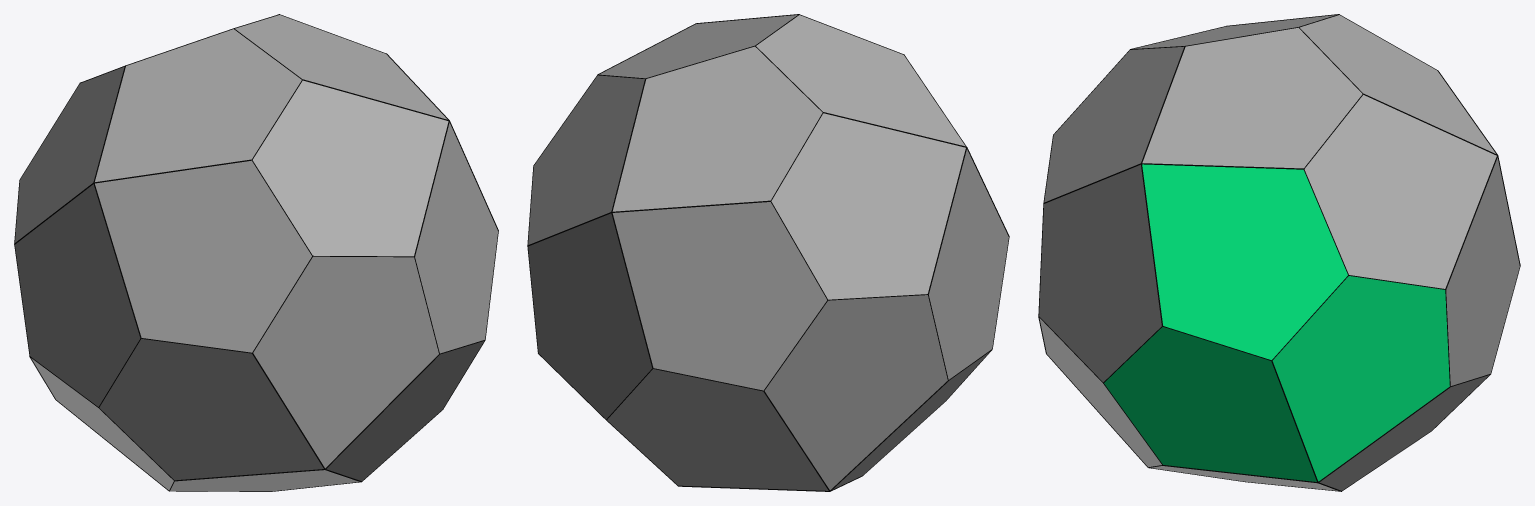
File: PentagonalIcositetrahedron4.glb
3 views of the same model, side by side, from view 1: azimuth 30°, elevation 25°; view 2: azimuth 150°, elevation 25°; view 3: azimuth 270°, elevation 25° (orthographic).
Size of the model in its own units: 2.51 by 2.55 by 2.48.
